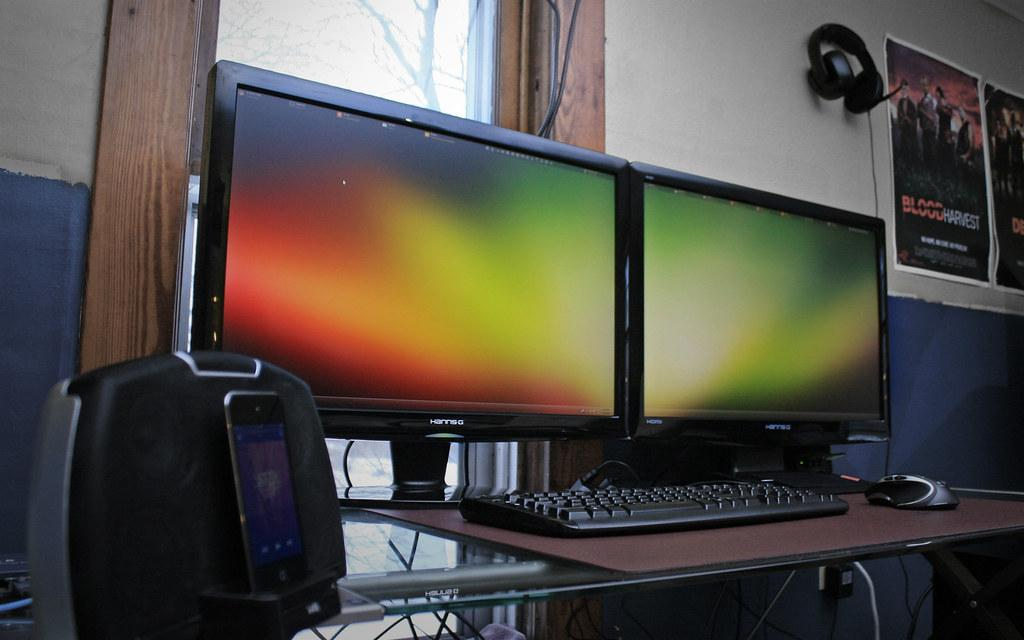computer: (184, 58, 632, 510), (629, 160, 892, 495)
